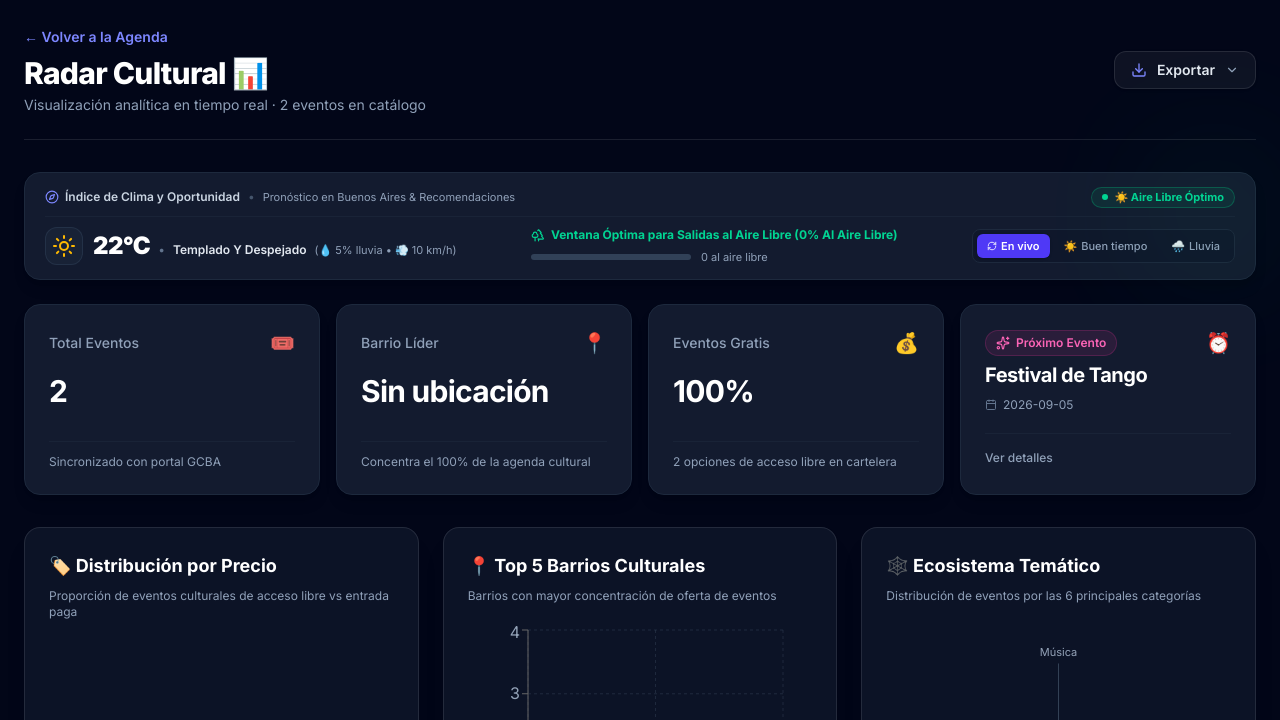
Test case: Dashboard Component - Executive PDF & CSV Export › opens dropdown menu and displays PDF and CSV options when clicked
Note: Open dropdown
Click the button "Exportar".
click(1185, 70)  # box [1114,50,1256,88]
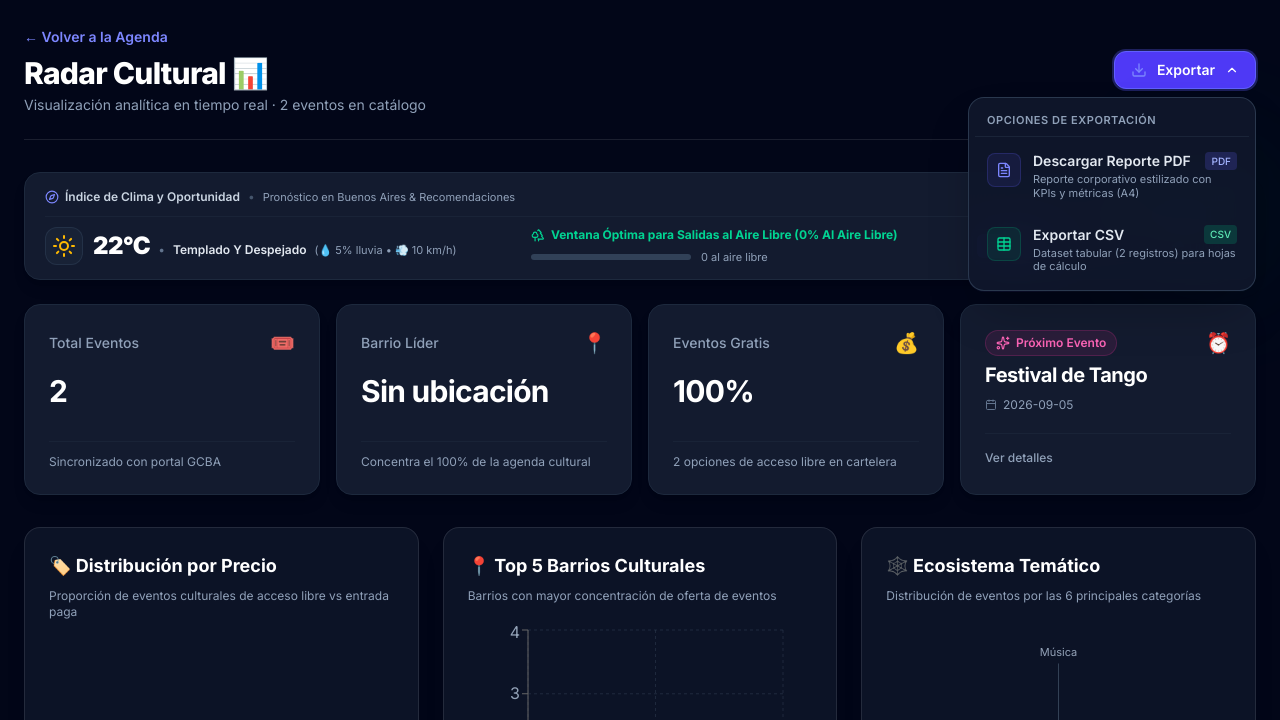
Expected: the menu is shown, [968,96,1256,291]
Expected: the menu shows "Descargar Reporte PDF", [975,141,1249,210]
Expected: the menu shows "Exportar CSV", [975,214,1249,284]
